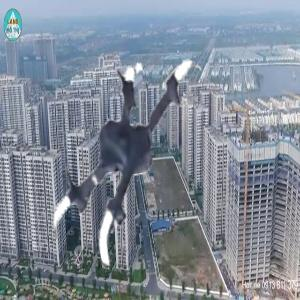drone: (33, 56, 253, 276)
